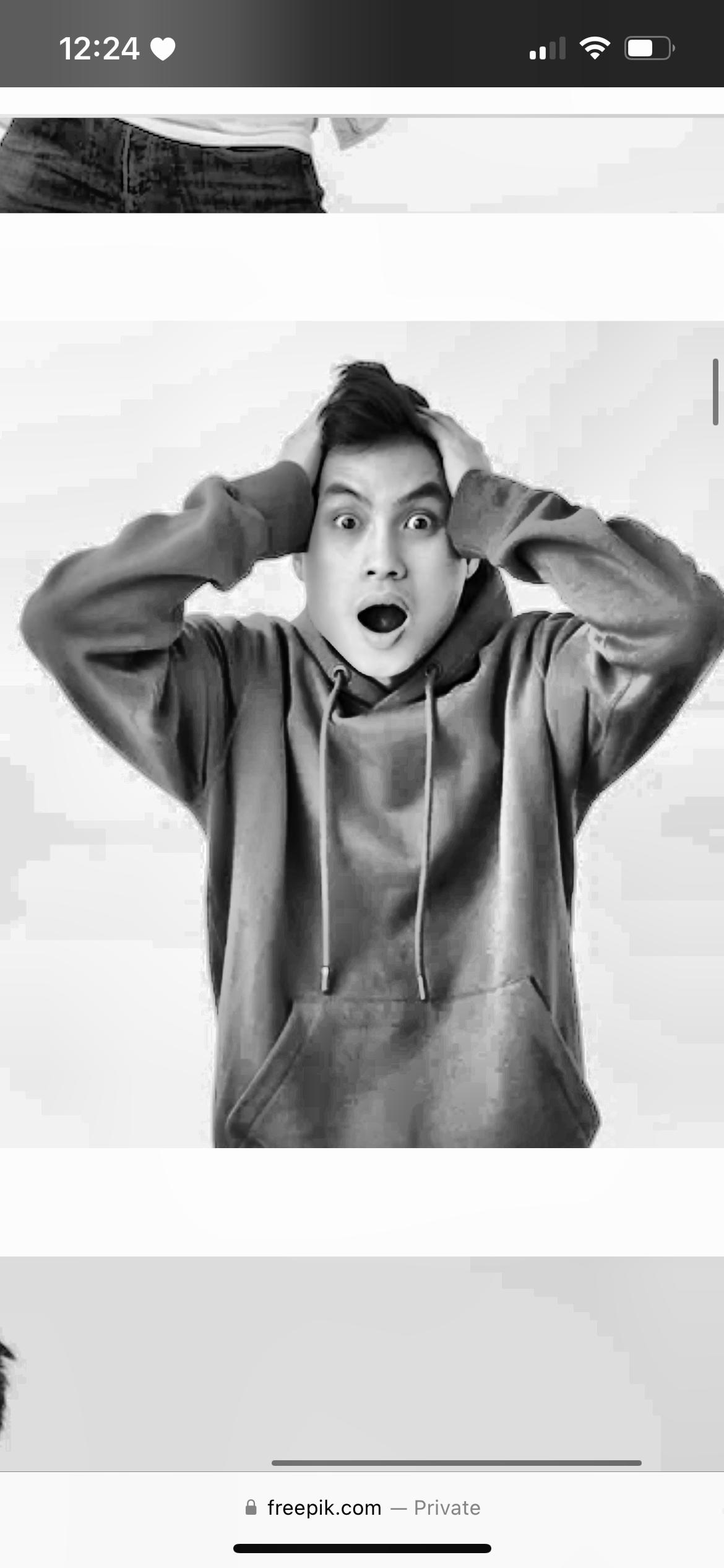surprised: (305, 428, 461, 675)
